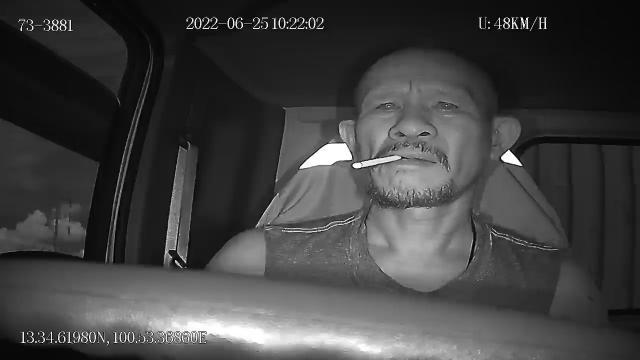SafeDriving: (426, 90, 468, 119), (368, 92, 407, 121)
Smoking: (352, 154, 402, 170)
